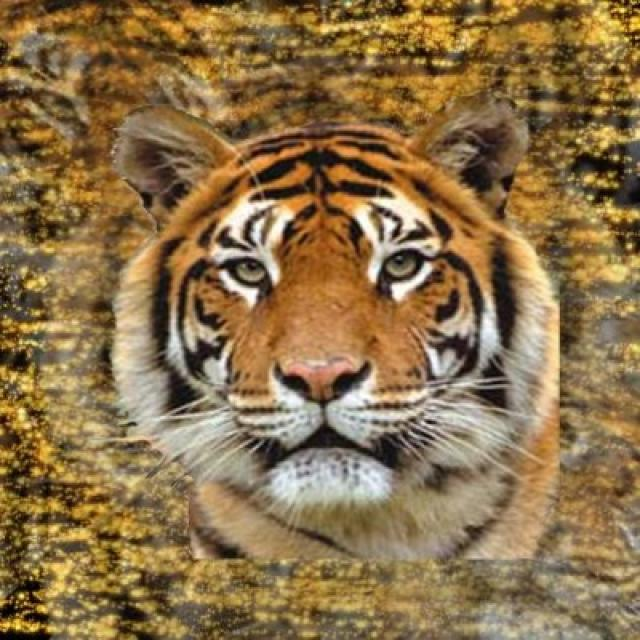Tiger: (116, 87, 557, 501)
